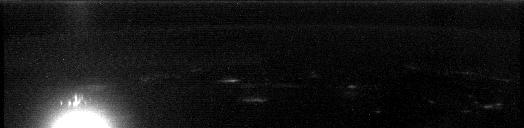positive: (58, 90, 93, 109)
